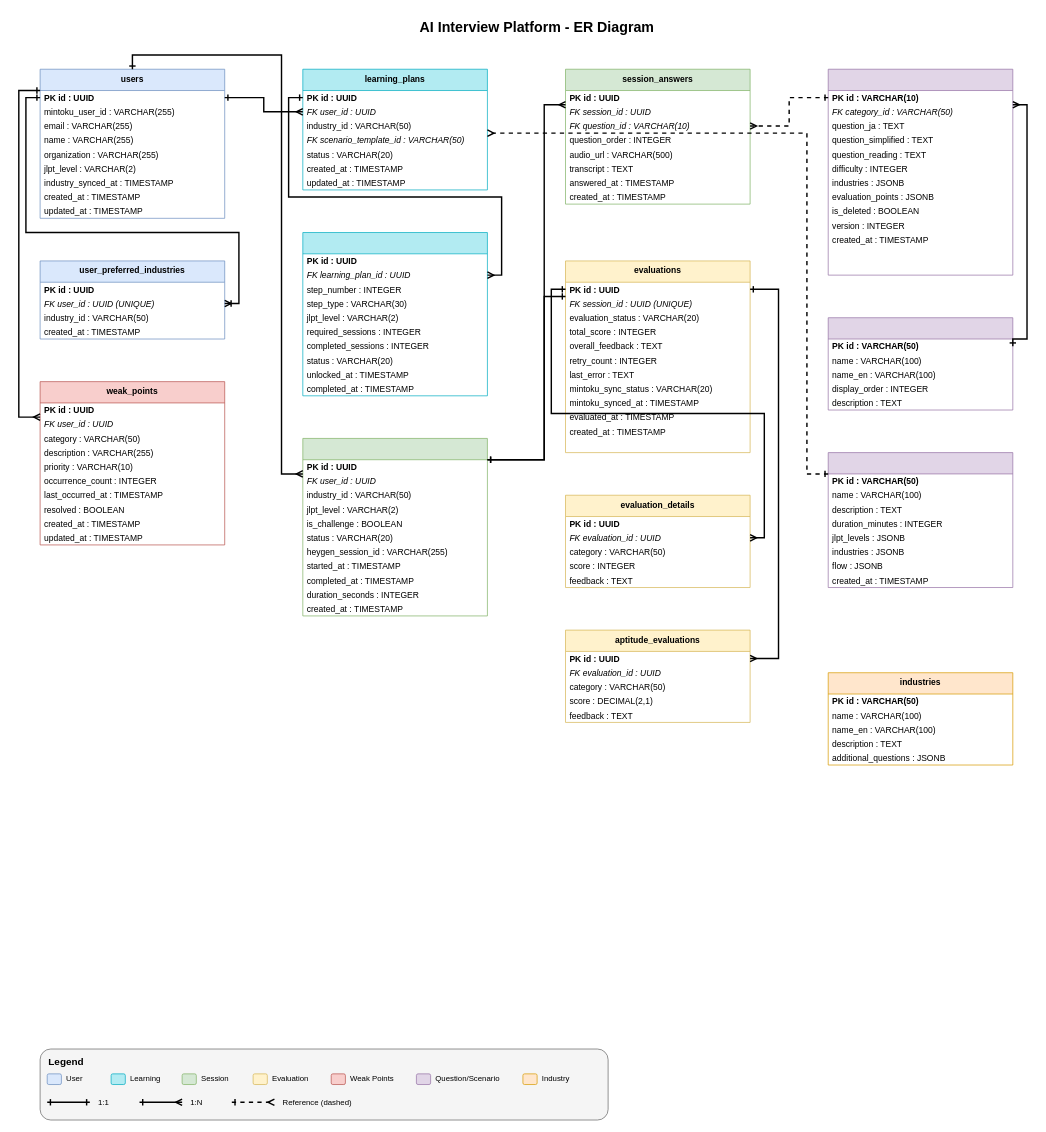
The diagram is 1046 pixels wide and 1132 high, and some of its shapes have lost their labels. The shapes that lost their labels are listed below. From the top down, each one's box as (x1, y1, x2, y2) in pixels, then its label:
(828, 69, 1013, 275): question_bank
(302, 232, 487, 396): learning_steps
(828, 317, 1013, 410): question_categories
(302, 438, 487, 616): interview_sessions
(828, 452, 1013, 588): scenario_templates
